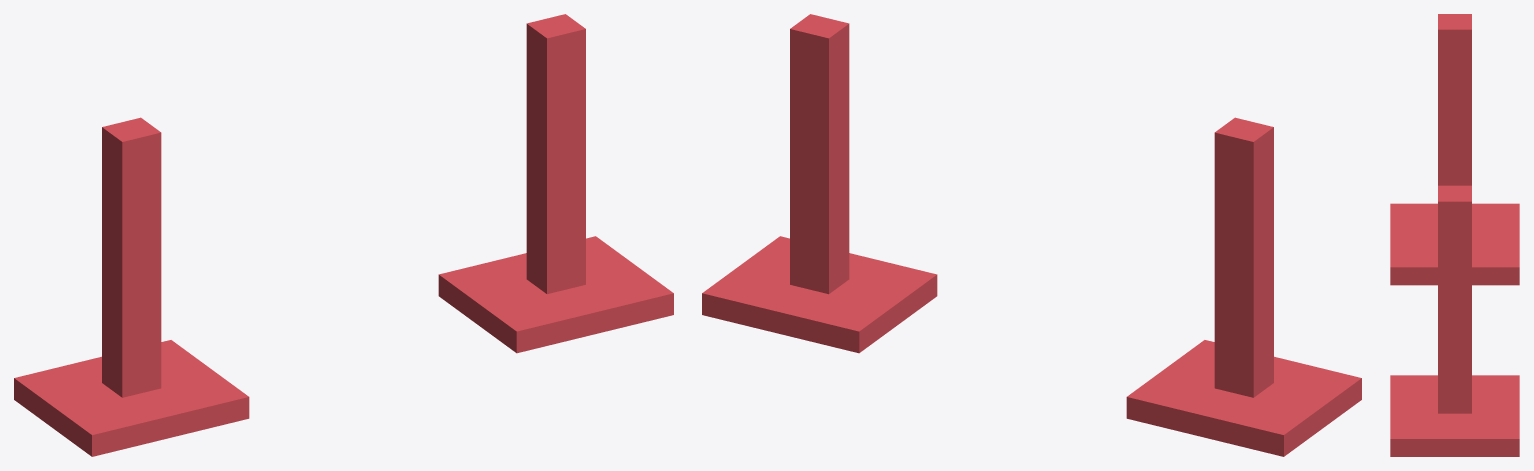
The model's file is Truck_Trailer_01_Feets.fbx.
3 renders of one model, left to right at view 1: azimuth 30°, elevation 25°; view 2: azimuth 150°, elevation 25°; view 3: azimuth 270°, elevation 25°, orthographic. The views are drawn at different scales.
Visible parts, largest first — view 1: Truck_Trailer_01_Feets; view 2: Truck_Trailer_01_Feets; view 3: Truck_Trailer_01_Feets.
Part boxes in pixels (<box>): Truck_Trailer_01_Feets: <box>14,14,673,456</box>; Truck_Trailer_01_Feets: <box>702,14,1361,456</box>; Truck_Trailer_01_Feets: <box>1390,14,1519,456</box>.
Bounding box in the file's own units: 141 × 64.62 × 32.7.
